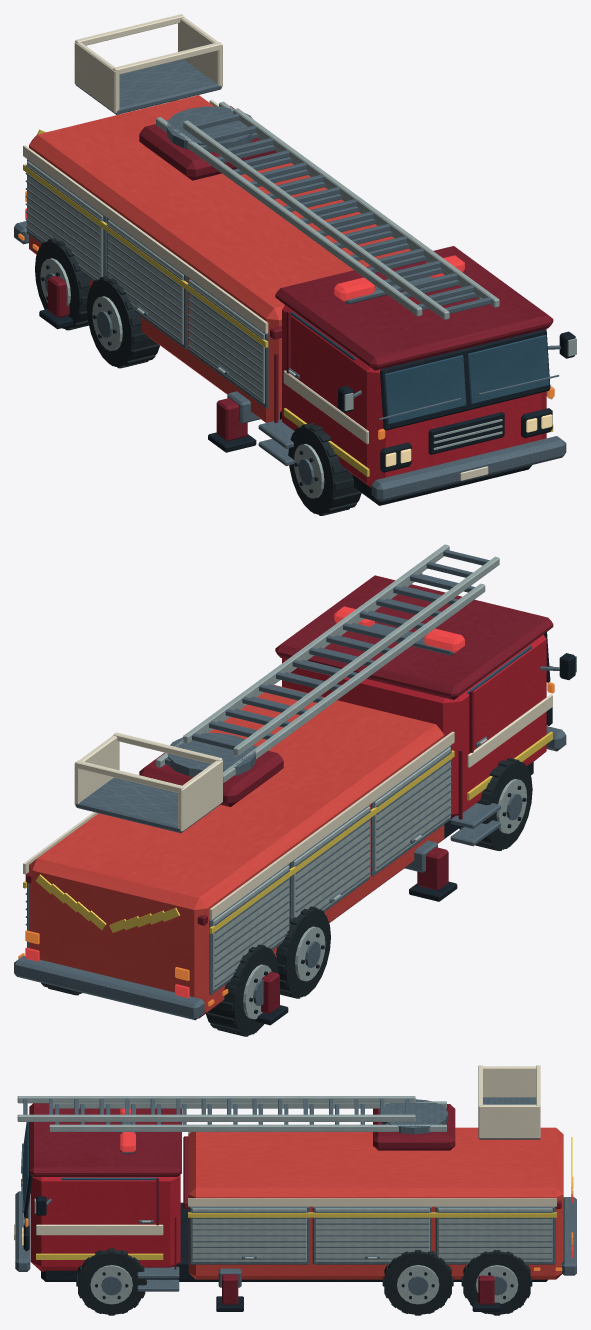
File: engine-ladder.glb
The picture shows the model from 3 angles, top to bottom: view 1: azimuth 30°, elevation 25°; view 2: azimuth 150°, elevation 25°; view 3: azimuth 270°, elevation 25°; orthographic projection. The views are drawn at different scales.
Parts seen in each view (by area): view 1: engine-ladder; view 2: engine-ladder; view 3: engine-ladder.
Boxes of the visible parts, x1=… form: engine-ladder: x1=14, y1=14, x2=576, y2=515; engine-ladder: x1=14, y1=544, x2=576, y2=1036; engine-ladder: x1=14, y1=1065, x2=576, y2=1315.
Bounding box in the file's own units: 3.11 × 3.26 × 8.56.
4 materials, 4 textured.
